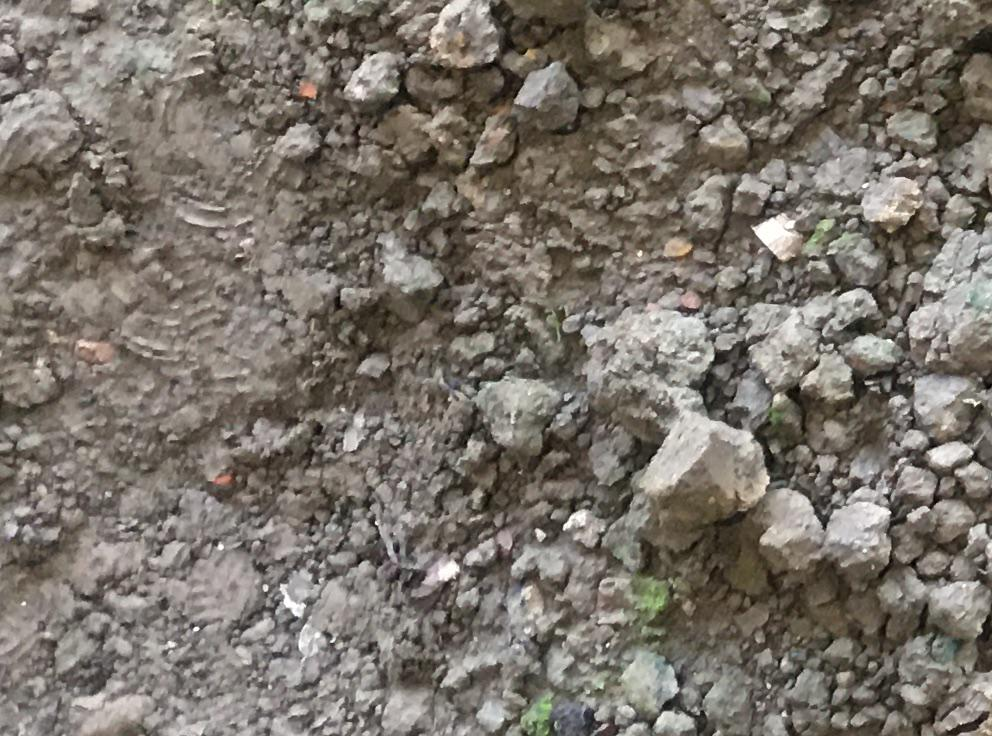block: (627, 406, 772, 544), (579, 304, 719, 435)
